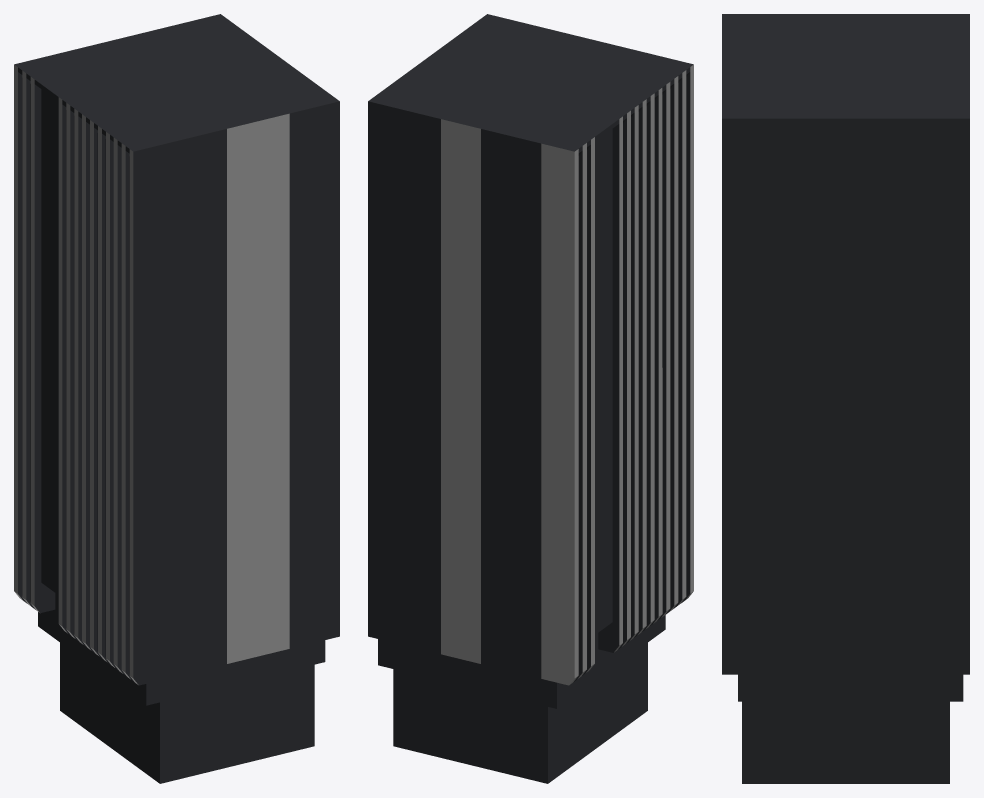
Rendered from Building_01_B.FBX.
3 views of the same model, side by side, from view 1: azimuth 30°, elevation 25°; view 2: azimuth 150°, elevation 25°; view 3: azimuth 270°, elevation 25° (orthographic). The views are drawn at different scales.
Visible parts, largest first — view 1: Building_01_B_LOD0; view 2: Building_01_B_LOD0; view 3: Building_01_B_LOD0.
Boxes of the visible parts, x1,y1,x2,y2 form: Building_01_B_LOD0: (14,14,339,783); Building_01_B_LOD0: (368,14,693,783); Building_01_B_LOD0: (722,14,969,783).
Size of what is drawn, in the model's own units: 180 by 540 by 180.
